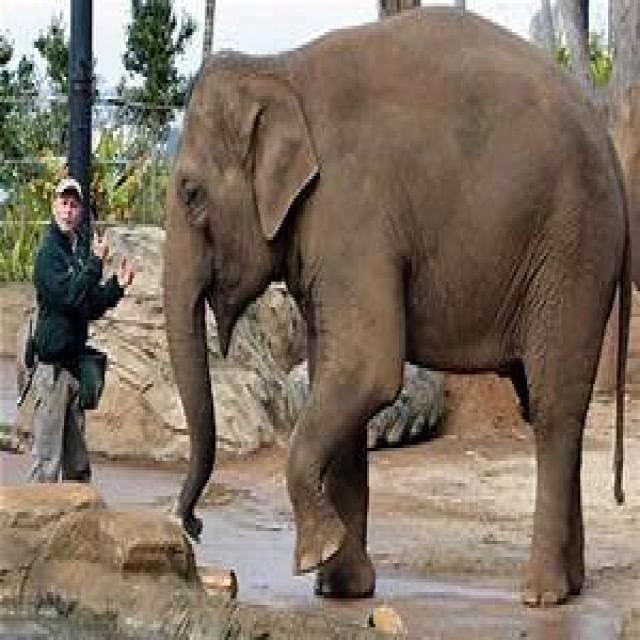elephant: (160, 10, 631, 608)
